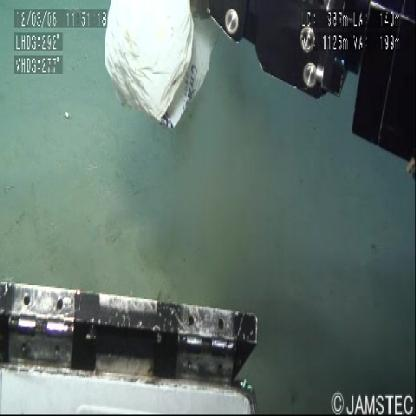Rov: (1, 262, 267, 416), (207, 1, 416, 182)
Rác: (98, 2, 214, 123)
